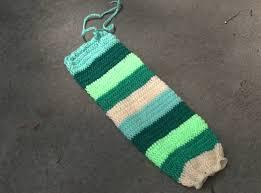Textile: (54, 16, 240, 193)
